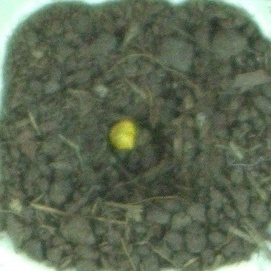chilli seed: (105, 118, 140, 153)
